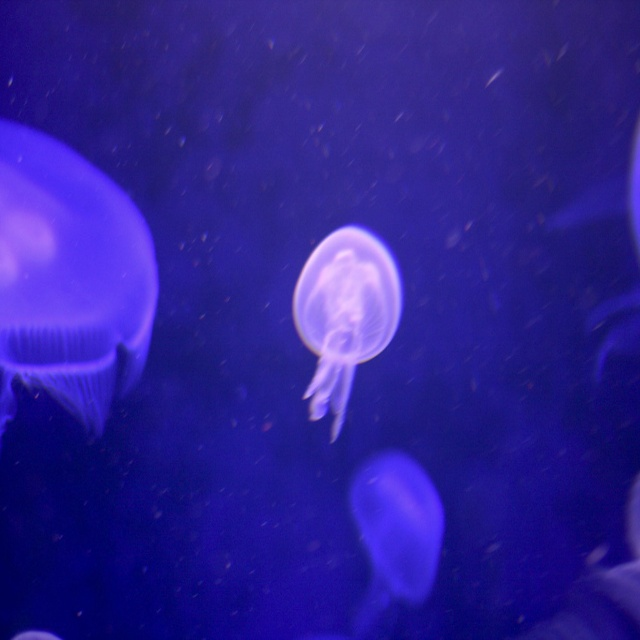Jellyfish: (0, 116, 158, 448), (546, 112, 640, 379), (291, 225, 403, 444), (347, 445, 446, 640), (583, 472, 640, 625), (10, 630, 61, 640)
